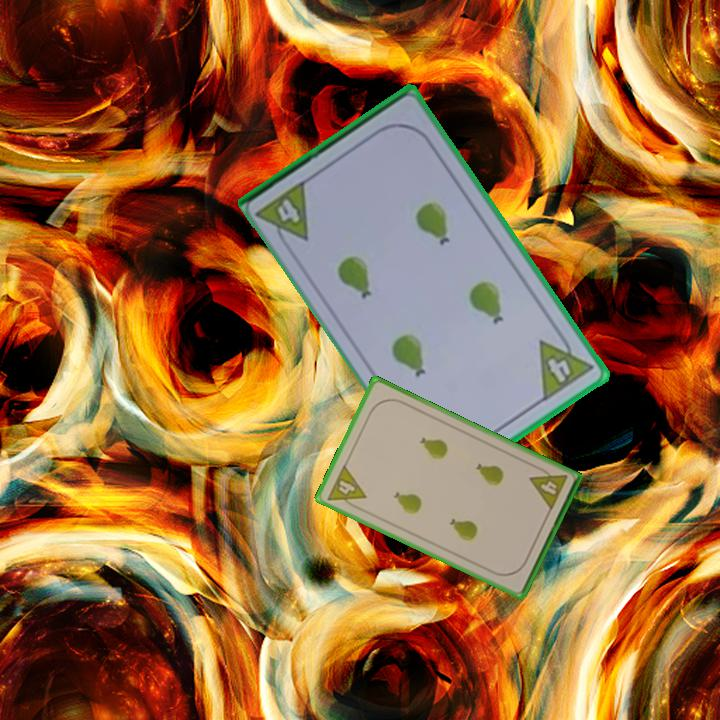4p: (535, 325, 596, 404), (254, 176, 313, 254), (323, 461, 369, 513), (526, 462, 570, 514)
